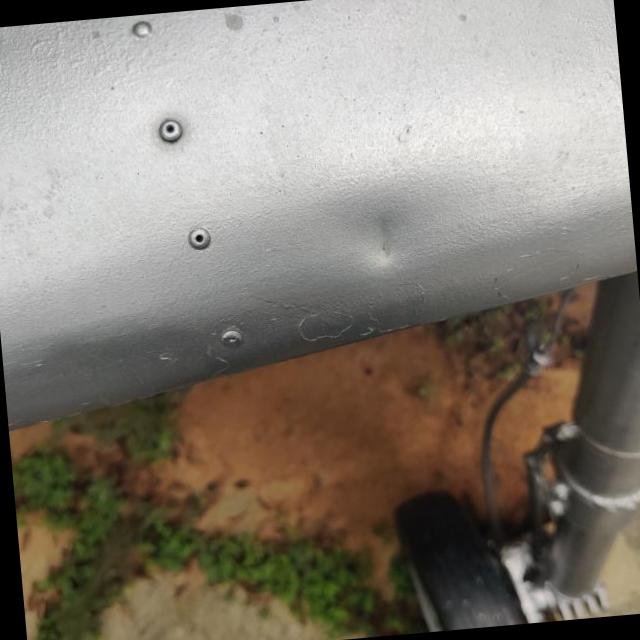Dent: (326, 189, 445, 299)
